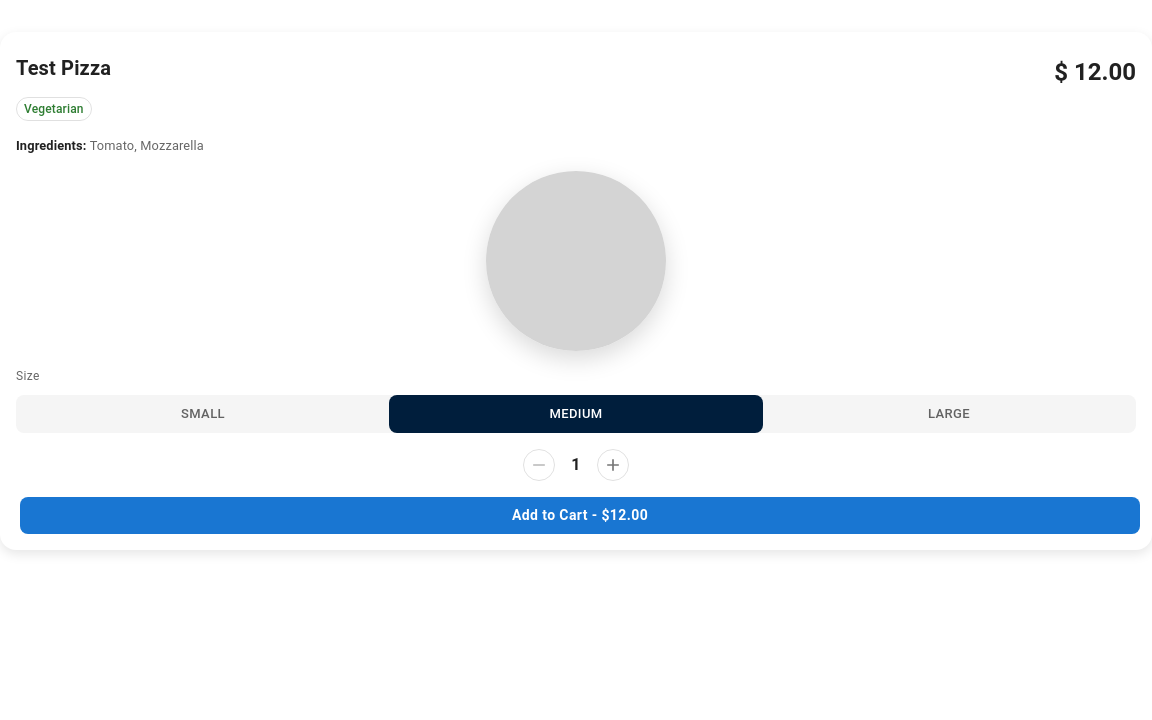
PizzaCard › calculates price based on size
This screenshot has width=1152, height=720.
Check: the text "$ 12.00" is shown, box [1054,56,1136,88]
// Change to Small ($10)
Click the button "SMALL".
click(203, 414)  # box [16,395,390,433]
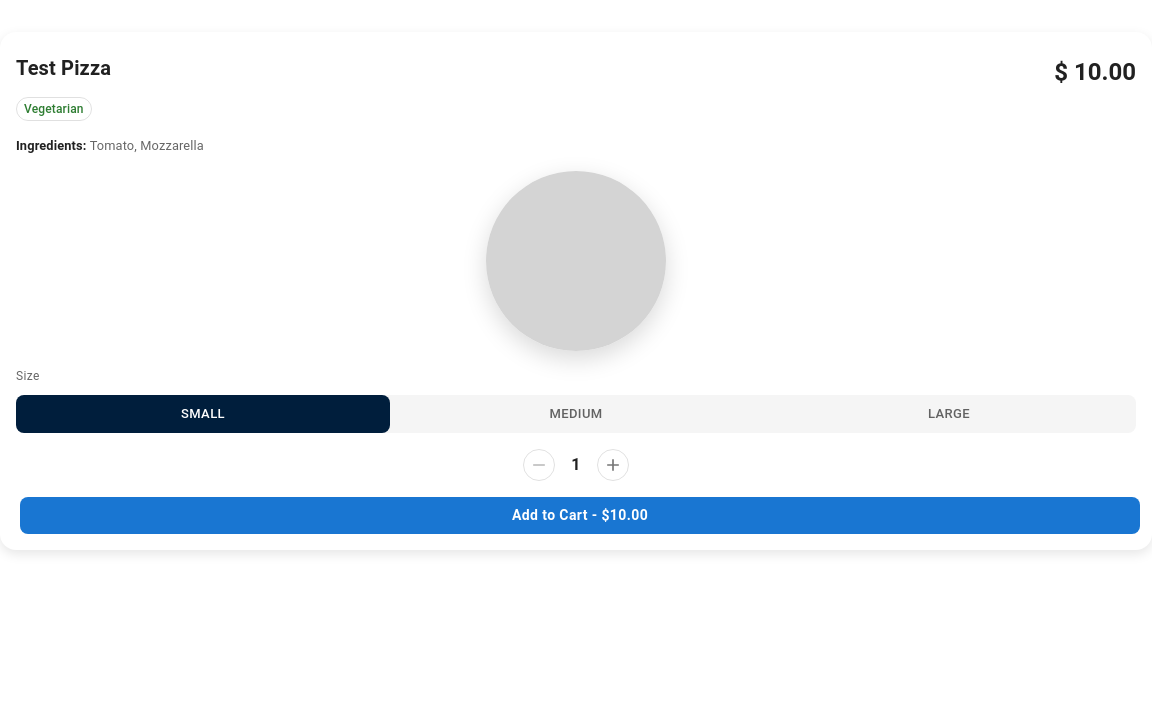
Check: the text "$ 10.00" is shown, box [1054,56,1136,88]
// Change to Large ($14)
Click the button "LARGE".
click(949, 414)  # box [762,395,1136,433]
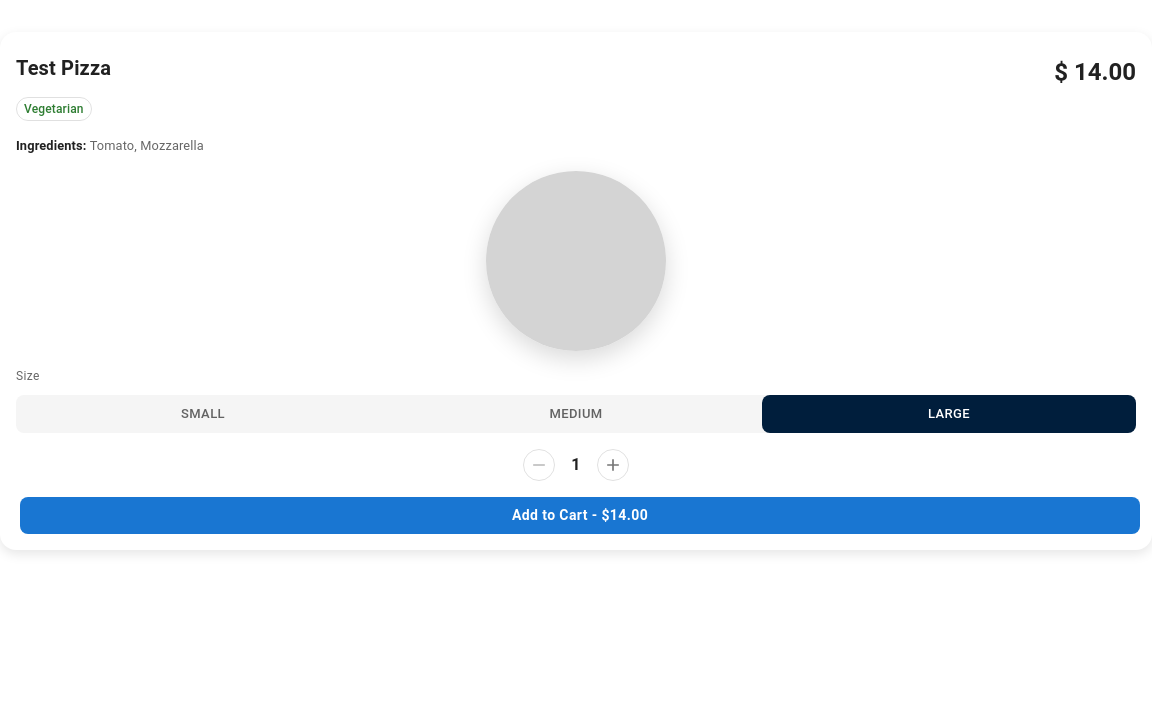
Check: the text "$ 14.00" is shown, box [1054,56,1136,88]
